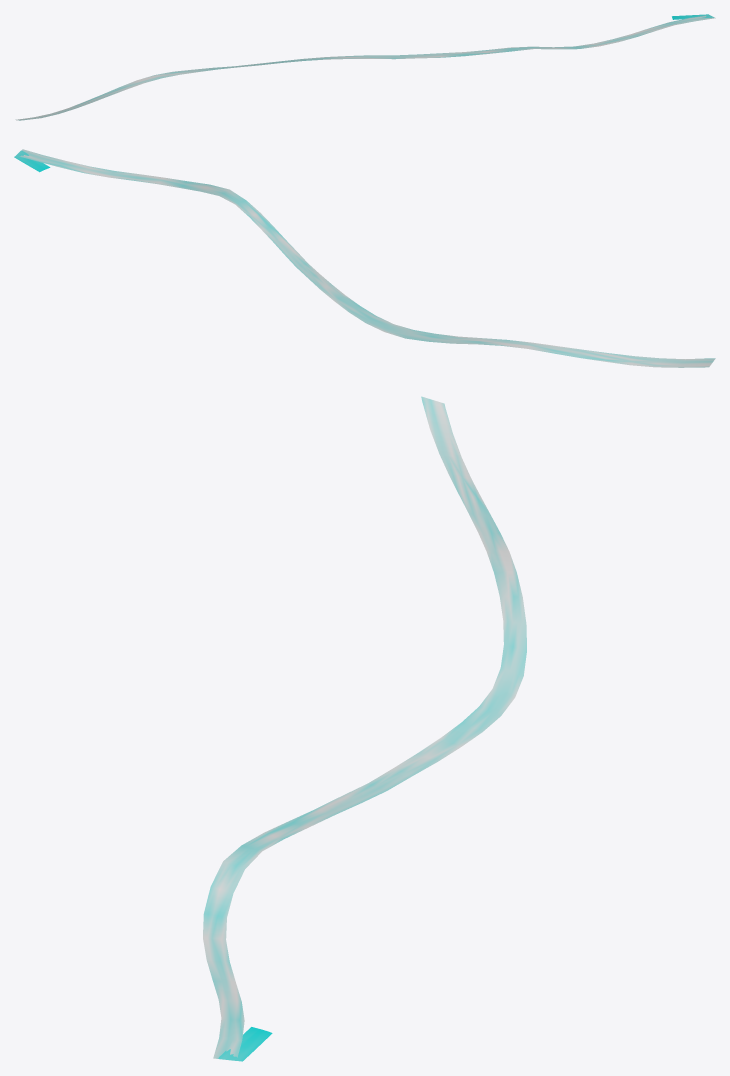
3 views of the same model, one above another, from view 1: azimuth 30°, elevation 25°; view 2: azimuth 150°, elevation 25°; view 3: azimuth 270°, elevation 25° (orthographic). The views are drawn at different scales.
Parts seen in each view (by area): view 1: SpaceCenter_Long3_GenerateRoad_Sand_TireTracks_Width_Mesh_x1; view 2: SpaceCenter_Long3_GenerateRoad_Sand_TireTracks_Width_Mesh_x1; view 3: SpaceCenter_Long3_GenerateRoad_Sand_TireTracks_Width_Mesh_x1.
Boxes of the visible parts, x1=… form: SpaceCenter_Long3_GenerateRoad_Sand_TireTracks_Width_Mesh_x1: x1=15, y1=14, x2=715, y2=120; SpaceCenter_Long3_GenerateRoad_Sand_TireTracks_Width_Mesh_x1: x1=14, y1=149, x2=715, y2=367; SpaceCenter_Long3_GenerateRoad_Sand_TireTracks_Width_Mesh_x1: x1=203, y1=396, x2=526, y2=1061.
Size of the model in its own units: 502 by 2304 by 81.66.
